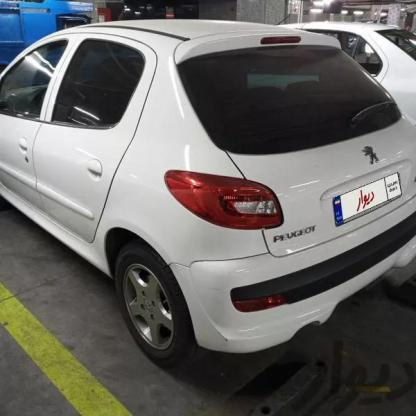Car: (0, 0, 385, 416), (272, 8, 406, 74)
